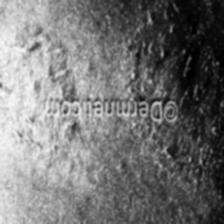Non-Cancerous Skin Condition: (92, 0, 197, 94), (178, 111, 224, 219), (0, 26, 70, 85)
